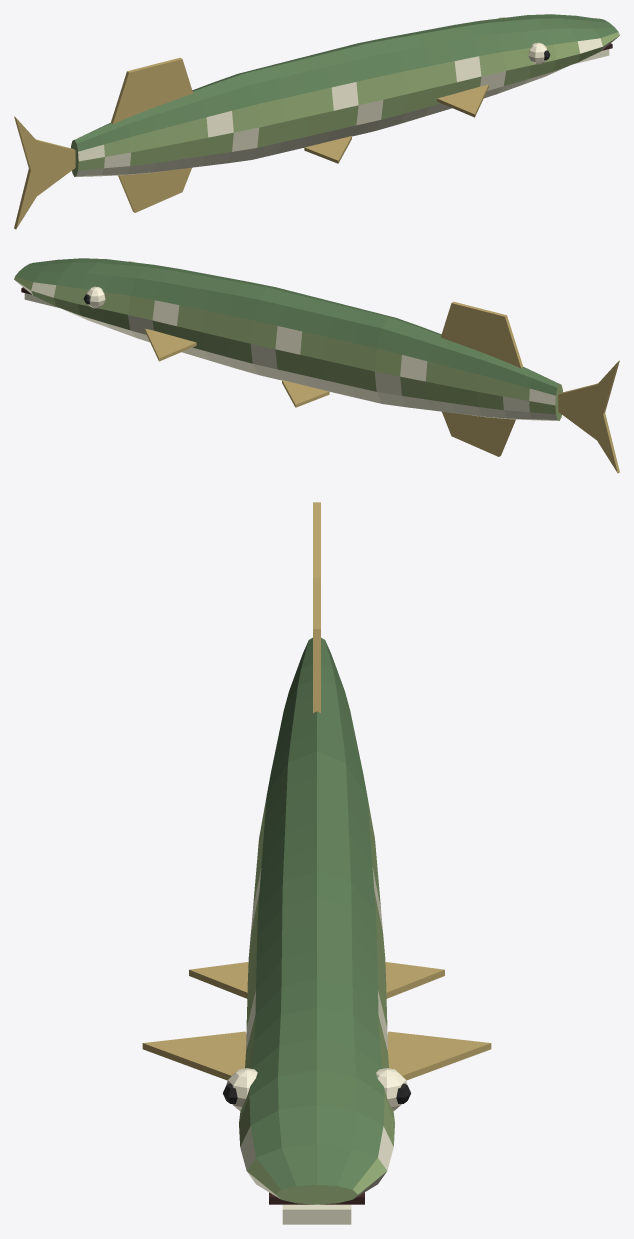
File: hecht.glb
3 views of the same model, one above another, from view 1: azimuth 30°, elevation 25°; view 2: azimuth 150°, elevation 25°; view 3: azimuth 270°, elevation 25° (orthographic). The views are drawn at different scales.
Visible parts, largest first — view 1: hecht; view 2: hecht; view 3: hecht.
Boxes of the visible parts, x1,y1,x2,y2 form: hecht: (14, 14, 619, 229); hecht: (14, 258, 619, 473); hecht: (142, 502, 491, 1224).
Bounding box in the file's own units: 1 × 0.2289 × 0.2538.
